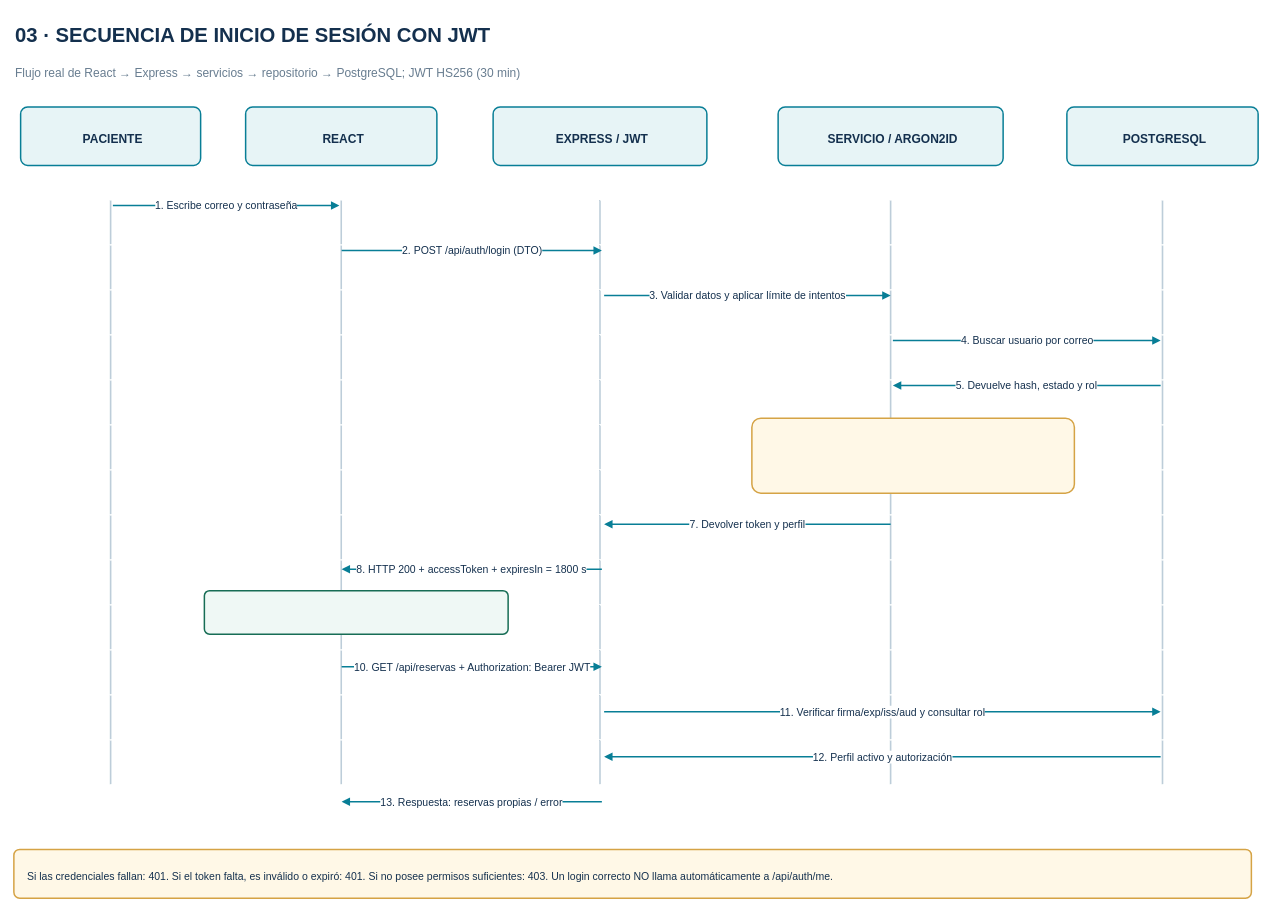
Image size: 1271x911. Some labels were removed from this diagram. The centre of each missing label's shape, as x and y in pixels:
6. Verificar contraseña con Argon2id Si es válida, generar JWT firmado HS256: point (913, 455)
9. React conserva JWT solo en memoria: point (355, 612)
